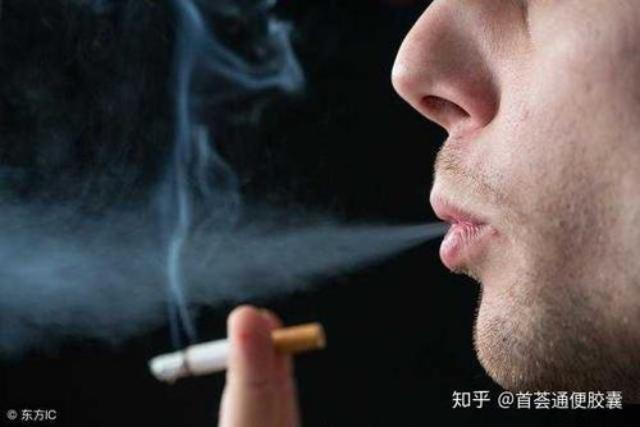Smoking: (150, 323, 328, 385)
